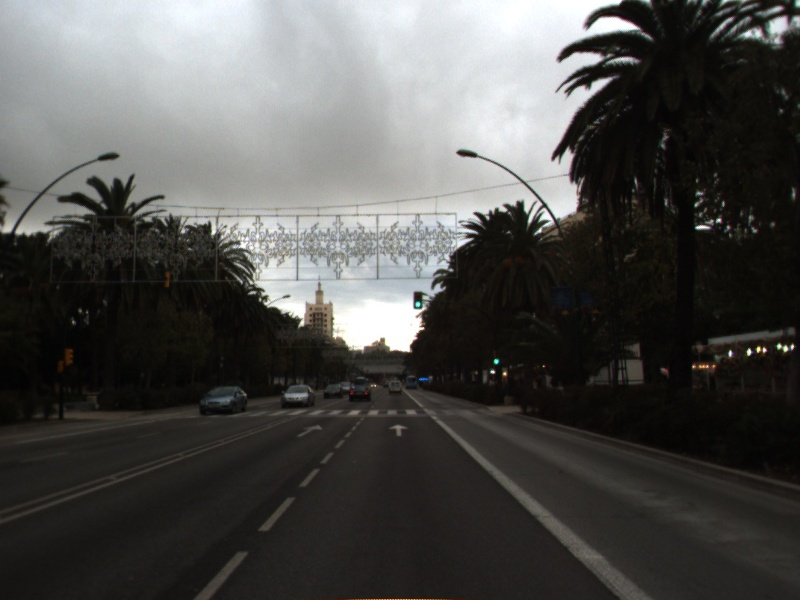STRAIGHT: (295, 422, 325, 439), (386, 422, 411, 438)
